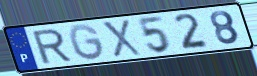2: (175, 12, 211, 52)
5: (135, 14, 174, 55)
8: (209, 9, 241, 46)
G: (68, 23, 108, 62)
R: (30, 27, 74, 66)
X: (99, 18, 143, 59)
